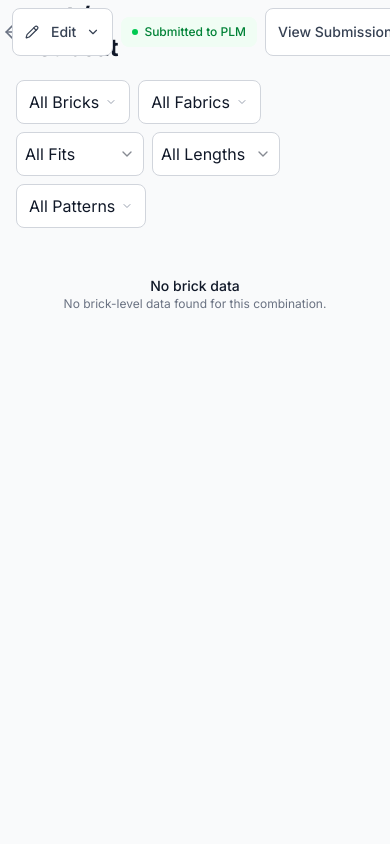
Scenario: persisted PLM publication status › refreshes the saved status when opening View Submission
This screenshot has width=390, height=844.
Step 1. Click the button "View Submission" → (328, 32), box [265,8,389,56]
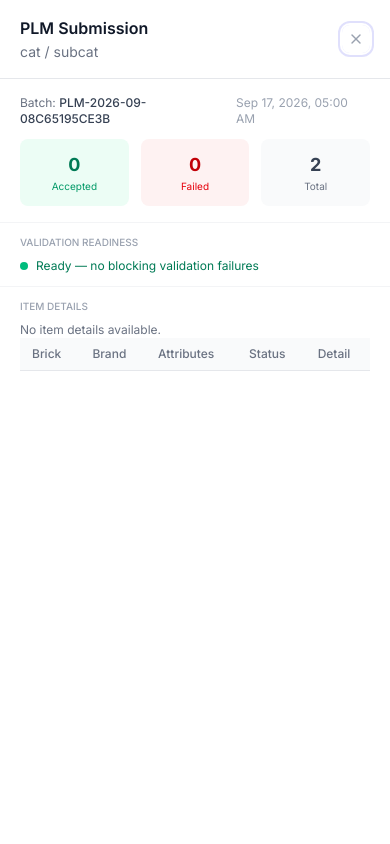
Expected: the dialog is shown
